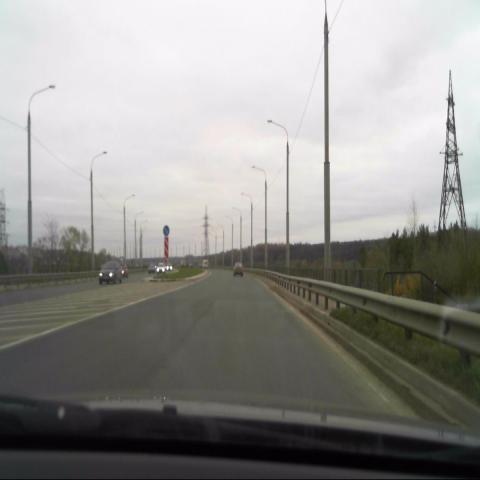4_2_1: (162, 223, 170, 236)
